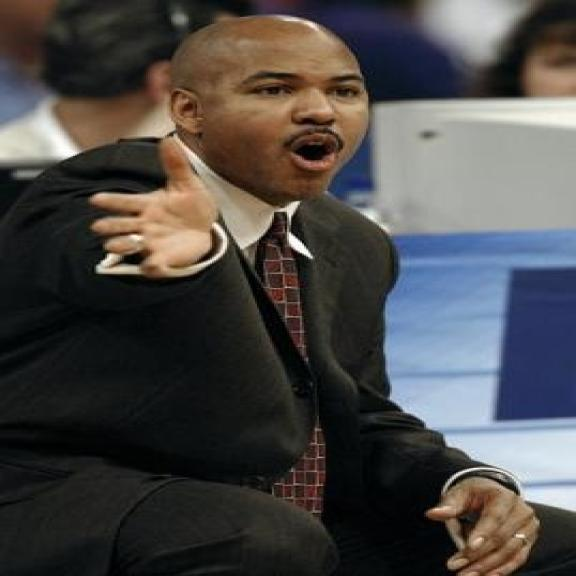face: (172, 37, 376, 196)
